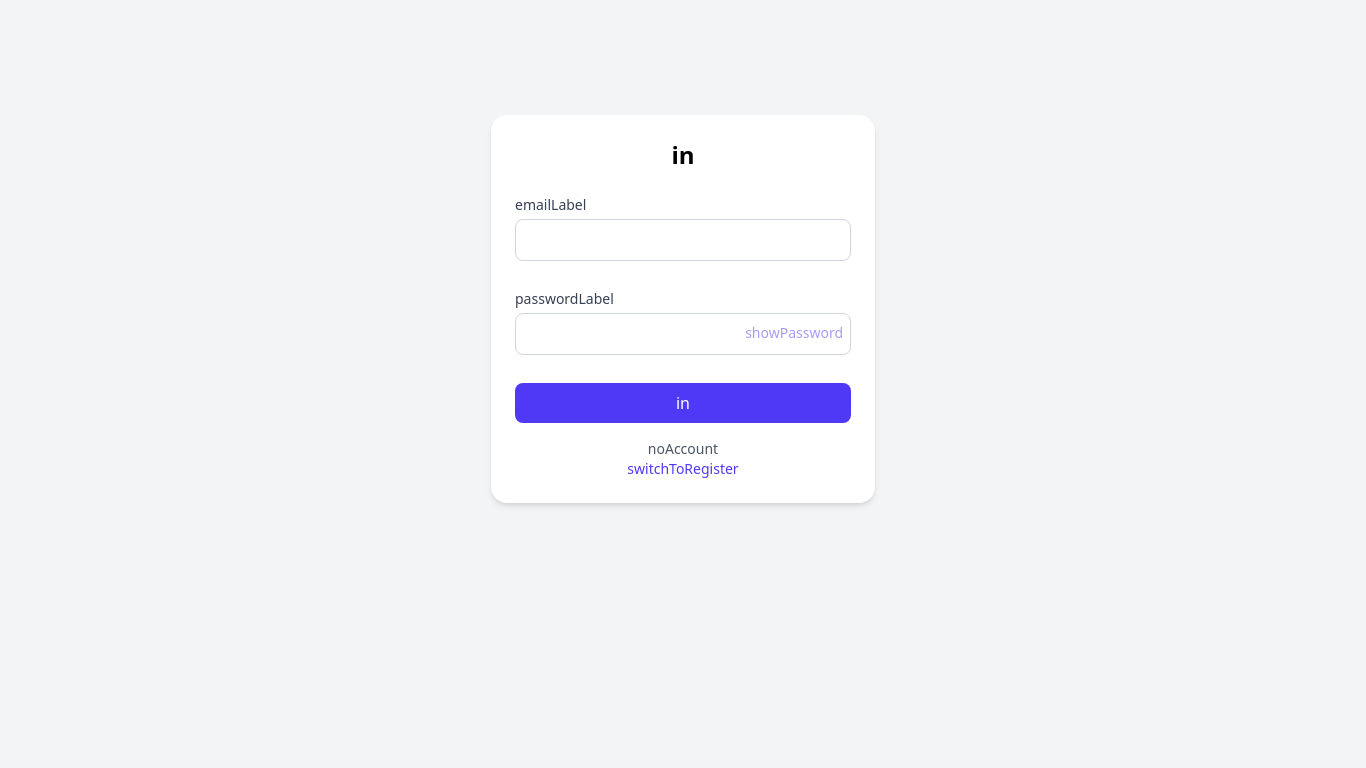
Scenario: LoginPage › показывает ошибку если signIn возвращает ошибку
Step 1. Type "test@test.com" into the field labelled "emailLabel" → (683, 240), box [515,219,851,261]
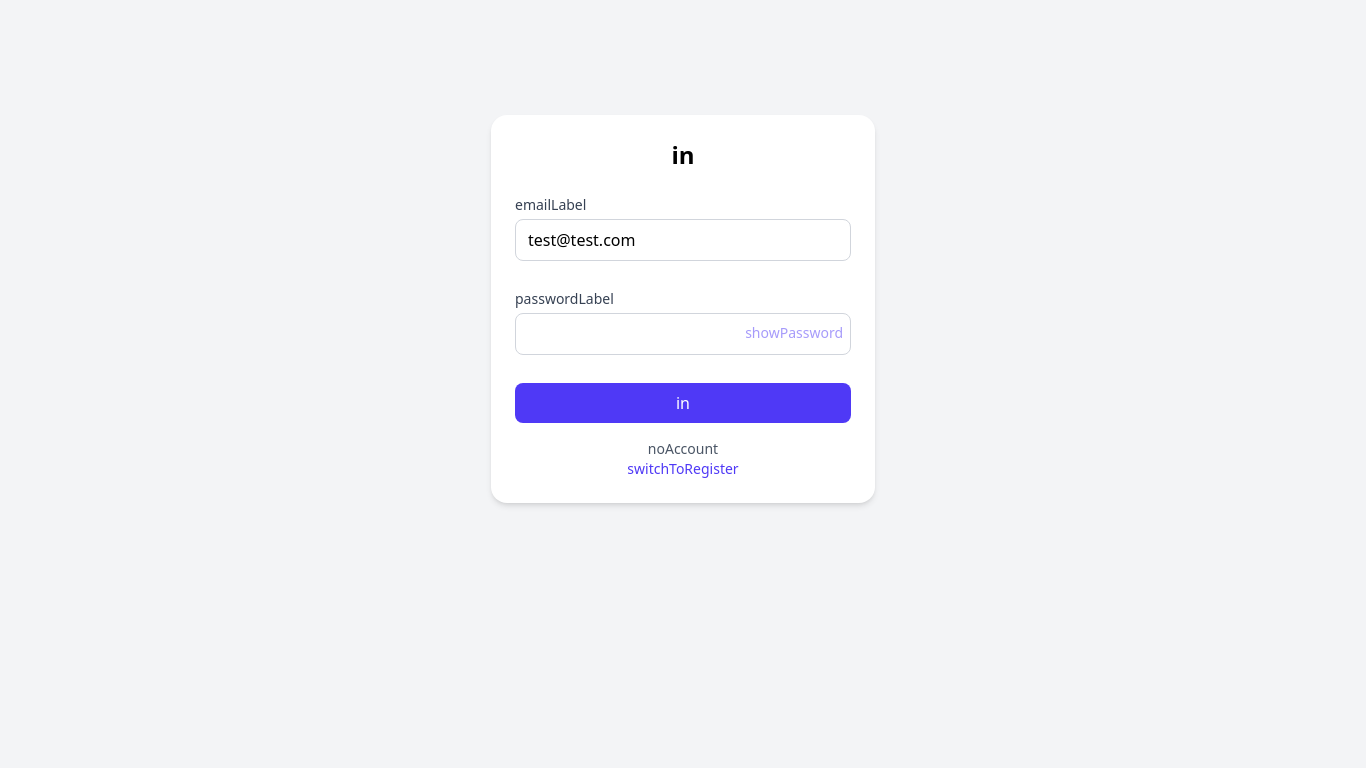
Step 2. Type "Password1!" into the password field labelled "passwordLabel" → (683, 334), box [515,313,851,355]
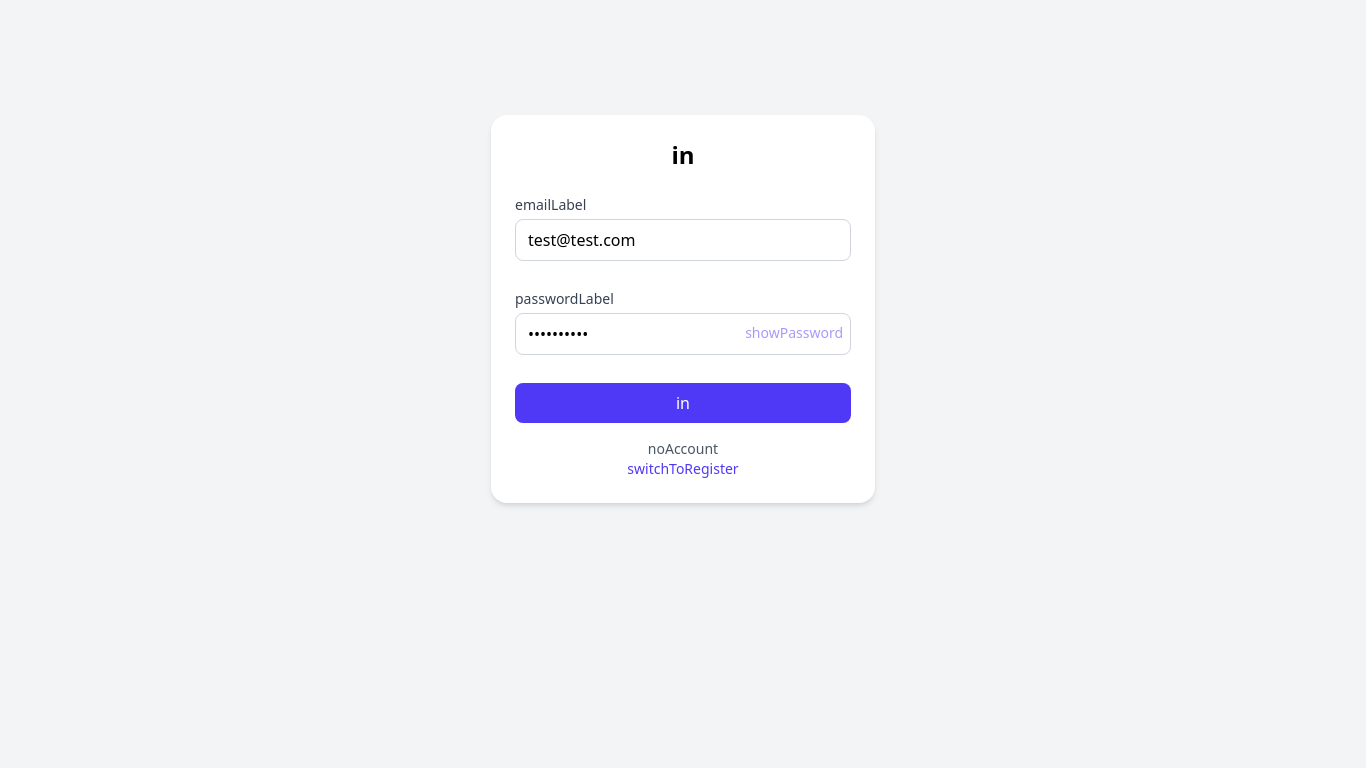
Step 3. Click the button "in" → (683, 403), box [515,383,851,423]
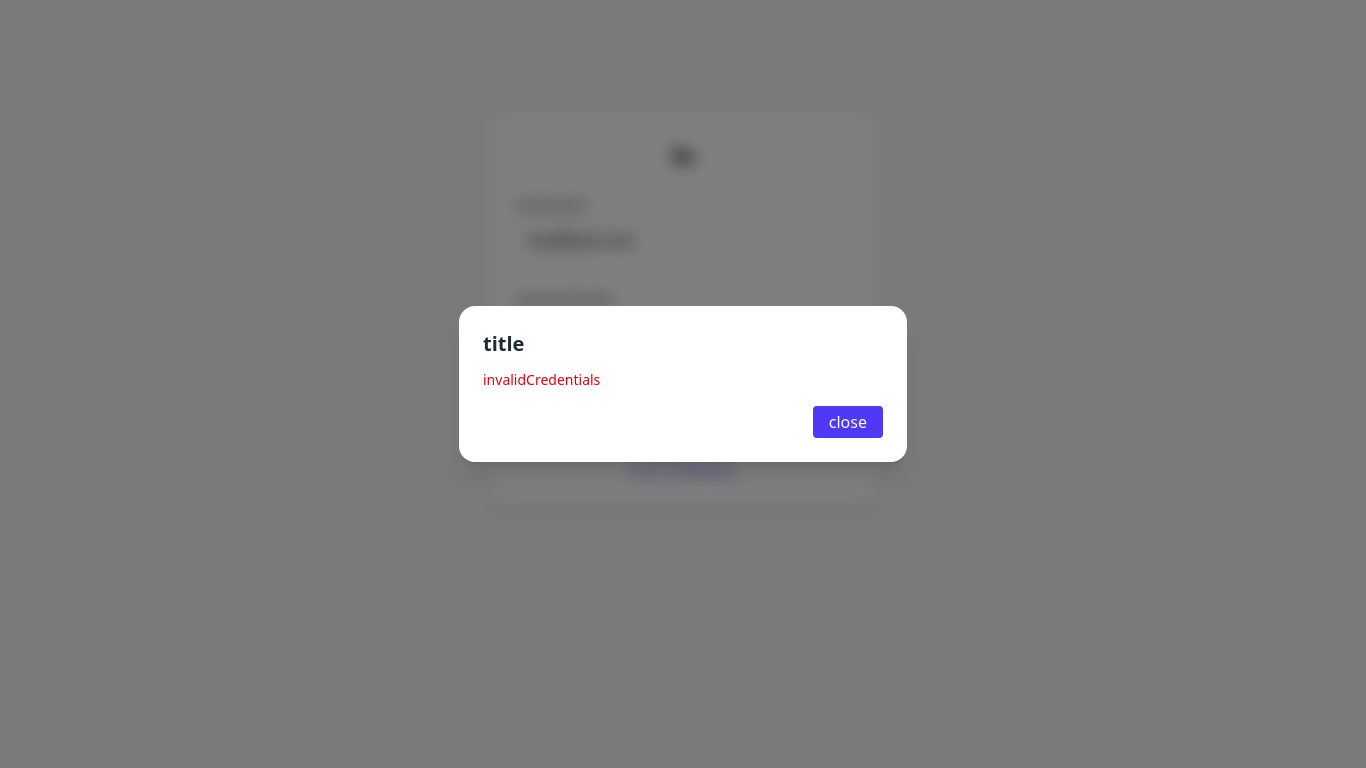
Result: the text "invalidCredentials" is shown at [483,370,600,389]
